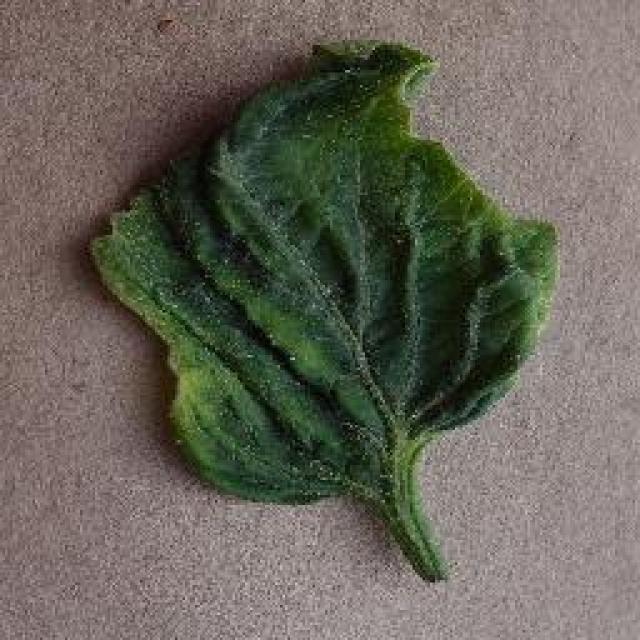Tom_Yellow_Leaf_Curl_Virus: (116, 106, 486, 465)
